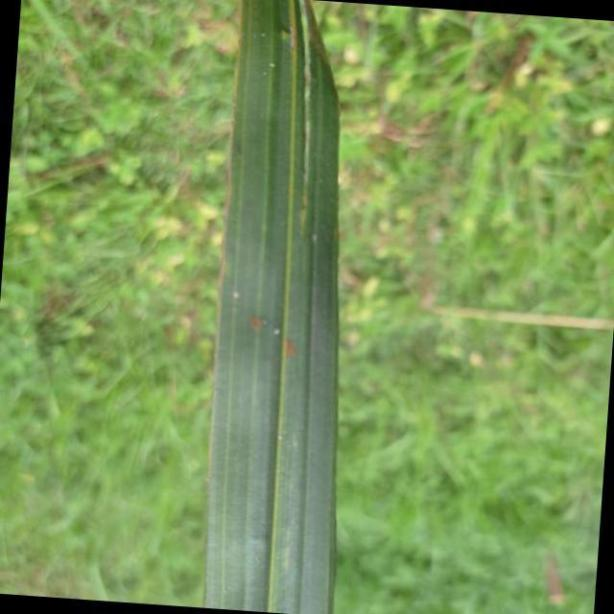Boron: (206, 0, 338, 614)
